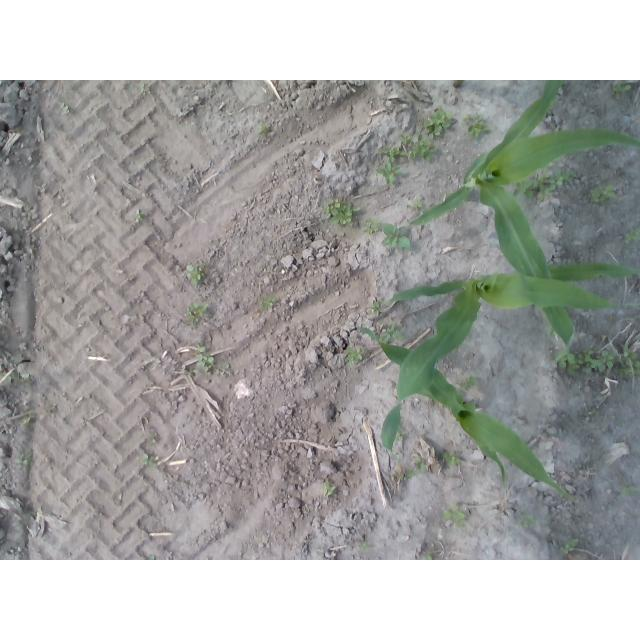Maize: (411, 80, 640, 346), (378, 265, 640, 460), (351, 324, 582, 508)
Weeds: (512, 169, 575, 203), (554, 347, 615, 373), (324, 198, 360, 226), (409, 134, 439, 162), (424, 109, 453, 136), (381, 224, 411, 249), (617, 348, 640, 379), (461, 114, 489, 139), (194, 342, 214, 372), (442, 504, 467, 528), (184, 302, 209, 325), (376, 163, 402, 185), (377, 145, 407, 163), (588, 185, 615, 204), (378, 325, 404, 344), (185, 262, 205, 286), (5, 372, 32, 388), (347, 346, 366, 365), (612, 81, 632, 99), (441, 450, 461, 468), (406, 199, 425, 217), (458, 376, 478, 392), (414, 453, 428, 475), (560, 538, 579, 554), (361, 218, 380, 234), (16, 452, 33, 469), (259, 295, 277, 311), (323, 480, 338, 497), (625, 226, 640, 243), (215, 363, 230, 379), (518, 512, 534, 527), (620, 482, 638, 495), (396, 469, 415, 480), (142, 454, 157, 467), (257, 122, 269, 138), (370, 300, 381, 317), (393, 429, 407, 442), (400, 131, 413, 145), (135, 208, 146, 223), (22, 415, 35, 426), (360, 541, 372, 552), (185, 369, 200, 375), (139, 82, 146, 94), (588, 407, 597, 415), (62, 106, 70, 114), (424, 556, 432, 561)
